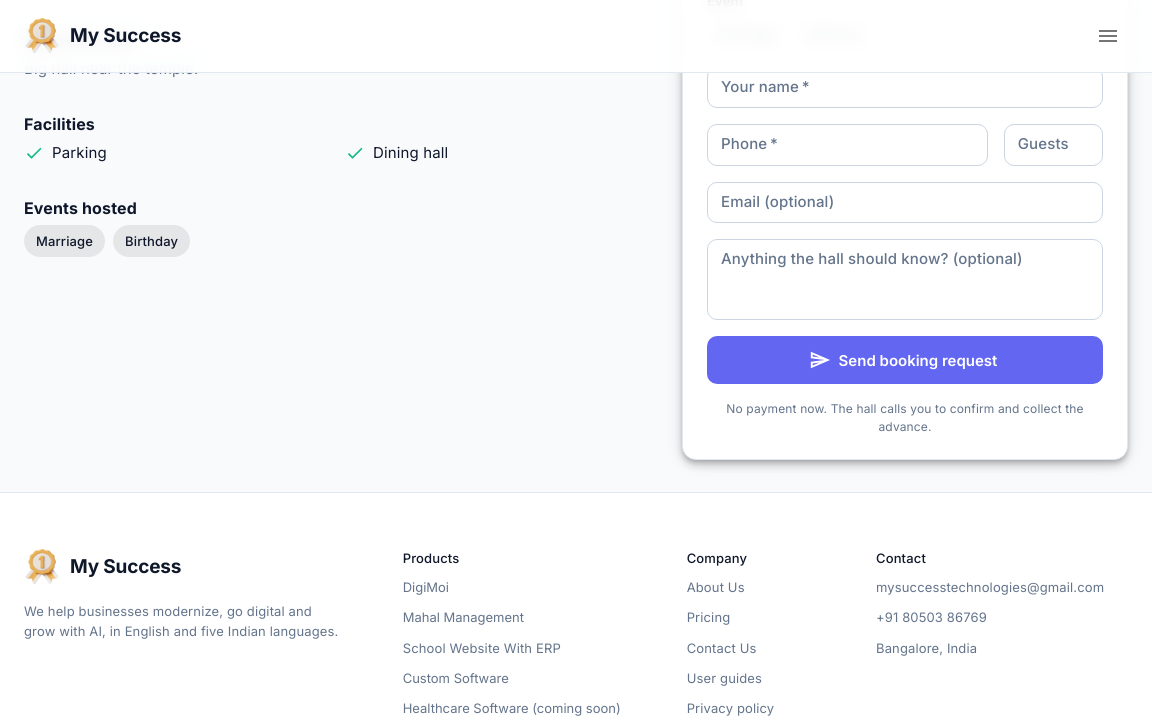
Test case: Mahal booking › does not send a request without a name, phone and event
(page scrolled)
Click the button "Send booking request". click: (905,360)
box: [707, 336, 1103, 384]
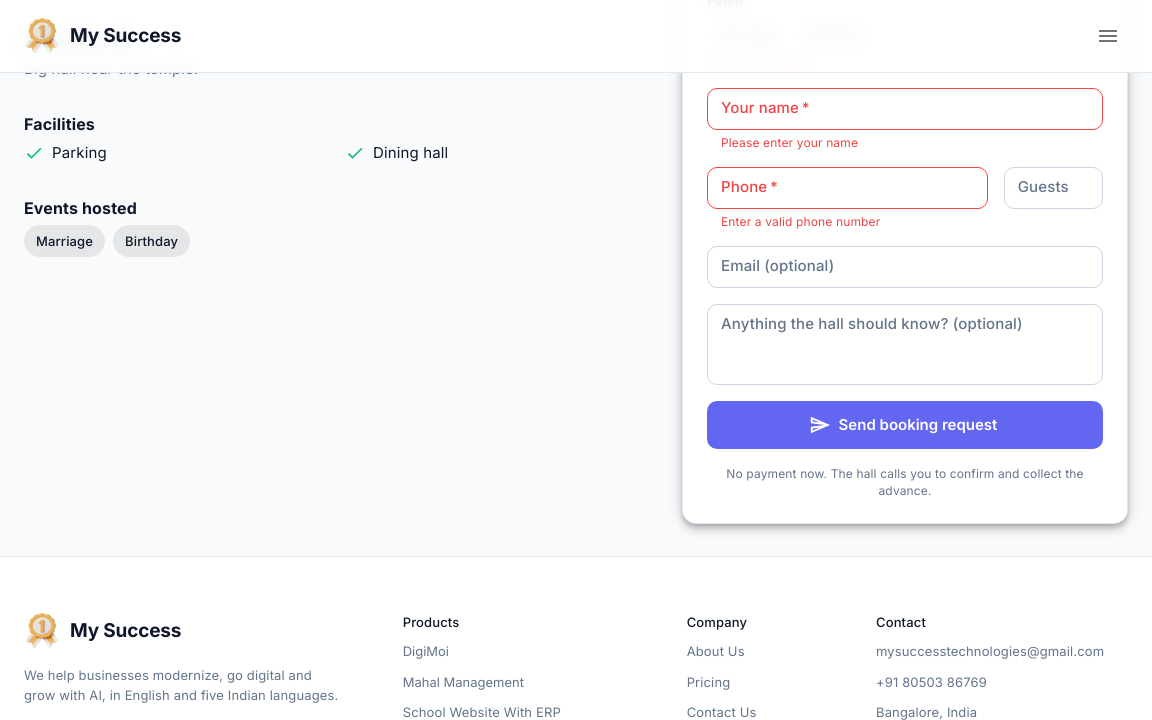
Check: the text "Choose the event" is shown, box [707, 56, 809, 71]
Check: the text "Please enter your name" is shown, box [721, 135, 858, 150]
